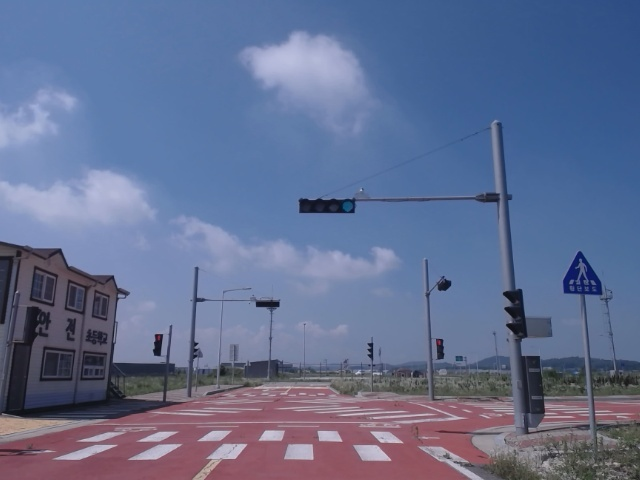straight_green_4: (299, 197, 358, 215)
